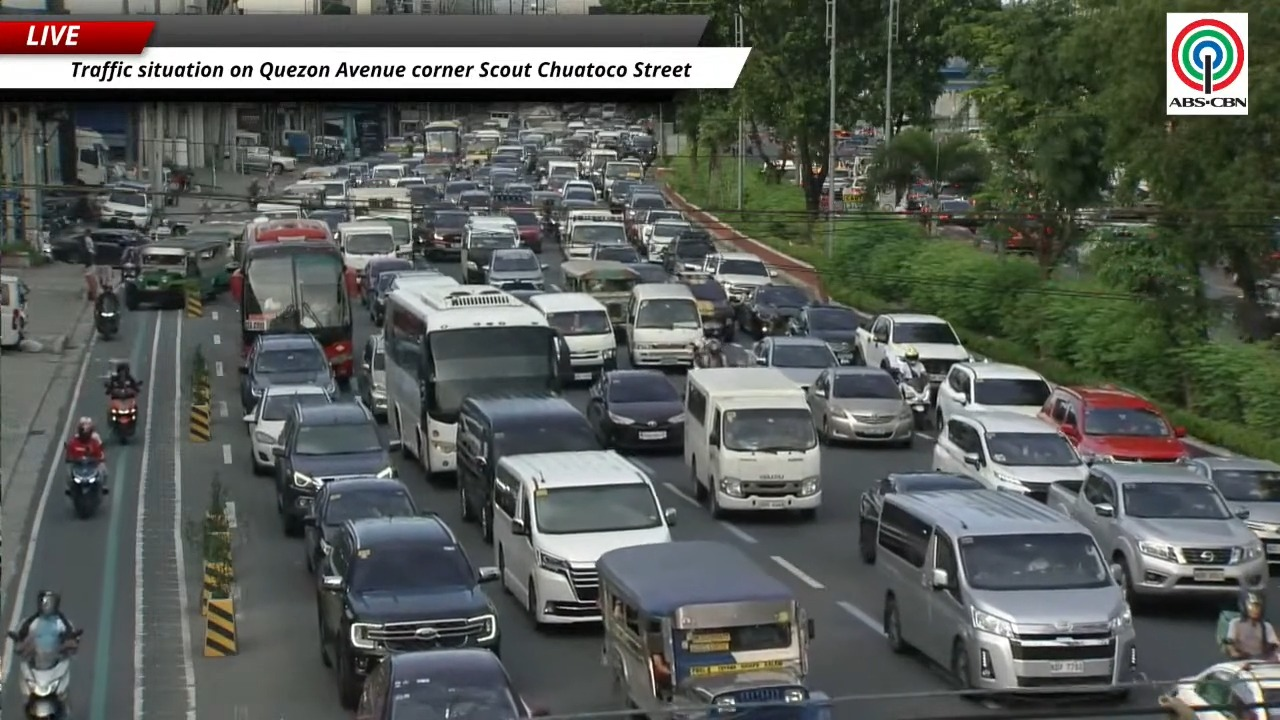bus: (383, 284, 571, 477), (231, 234, 353, 386), (233, 218, 332, 261), (422, 121, 463, 164)
car: (317, 514, 499, 708), (273, 401, 398, 535), (356, 649, 548, 719), (1038, 386, 1189, 462), (859, 472, 985, 563), (304, 477, 419, 572), (1188, 456, 1279, 571), (806, 366, 915, 446), (243, 384, 331, 473), (240, 333, 337, 413), (586, 370, 682, 449), (935, 362, 1050, 427), (1159, 660, 1279, 719), (751, 337, 839, 389), (788, 303, 859, 364), (737, 284, 810, 338), (679, 273, 736, 341), (702, 252, 776, 301), (355, 333, 386, 421), (485, 247, 547, 288), (360, 257, 412, 305), (663, 228, 716, 274), (369, 270, 412, 326), (640, 215, 692, 261), (89, 227, 148, 265), (426, 208, 469, 258), (630, 208, 683, 247), (503, 207, 540, 252), (588, 243, 642, 264), (629, 263, 671, 283), (458, 190, 491, 209)
motorcycle: (8, 629, 82, 719), (66, 460, 104, 519), (900, 382, 931, 429), (109, 393, 137, 443), (95, 300, 119, 339), (693, 347, 727, 368)
truck: (1046, 463, 1267, 603), (855, 313, 972, 389), (75, 128, 109, 185), (238, 146, 296, 174)
